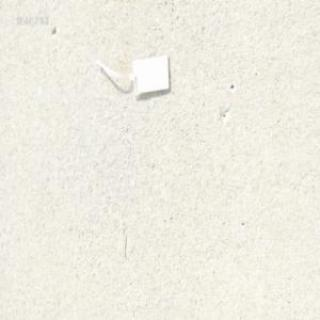LuggageTagtrack_idkeyframe: (94, 50, 171, 99)
